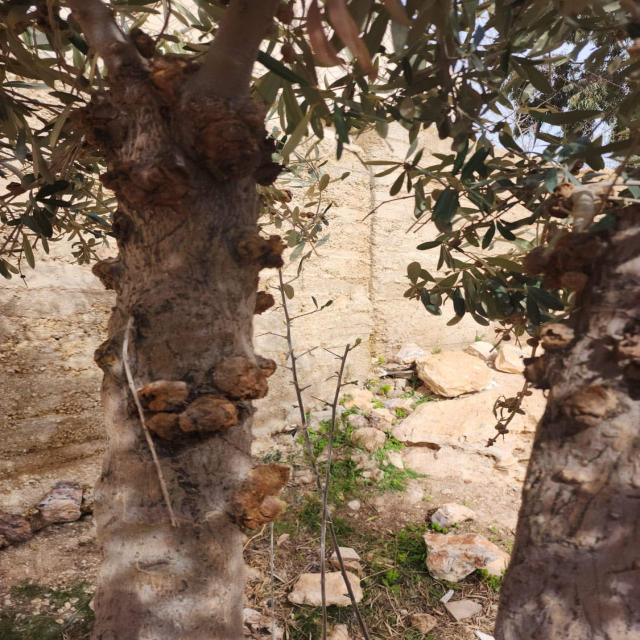Tuberculosis: (191, 98, 284, 187), (138, 380, 239, 442), (100, 159, 194, 213), (522, 232, 602, 293), (548, 382, 617, 433), (212, 355, 276, 401), (146, 54, 200, 102), (232, 232, 288, 274), (522, 353, 562, 391), (544, 182, 574, 219), (539, 323, 574, 352), (129, 28, 156, 62), (92, 258, 118, 292), (253, 291, 274, 314)
